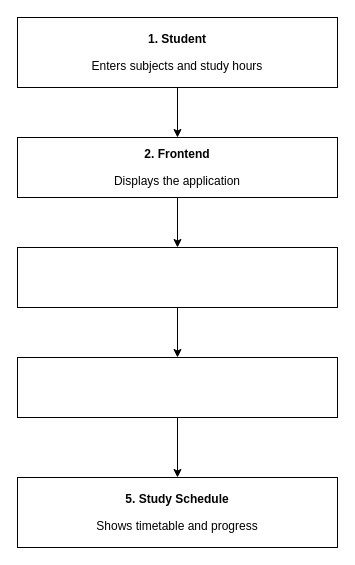
The diagram is 355 pixels wide and 565 high, and some of its shapes have lost their labels. The centre of each missing label's shape, as x and y in pixels:
3. Backend Processes student information: the point at 177,277
4. AI Recommendation Suggests study priorities: the point at 177,387
